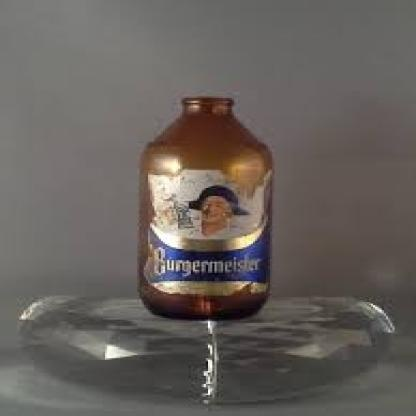trash: (138, 97, 272, 318)
